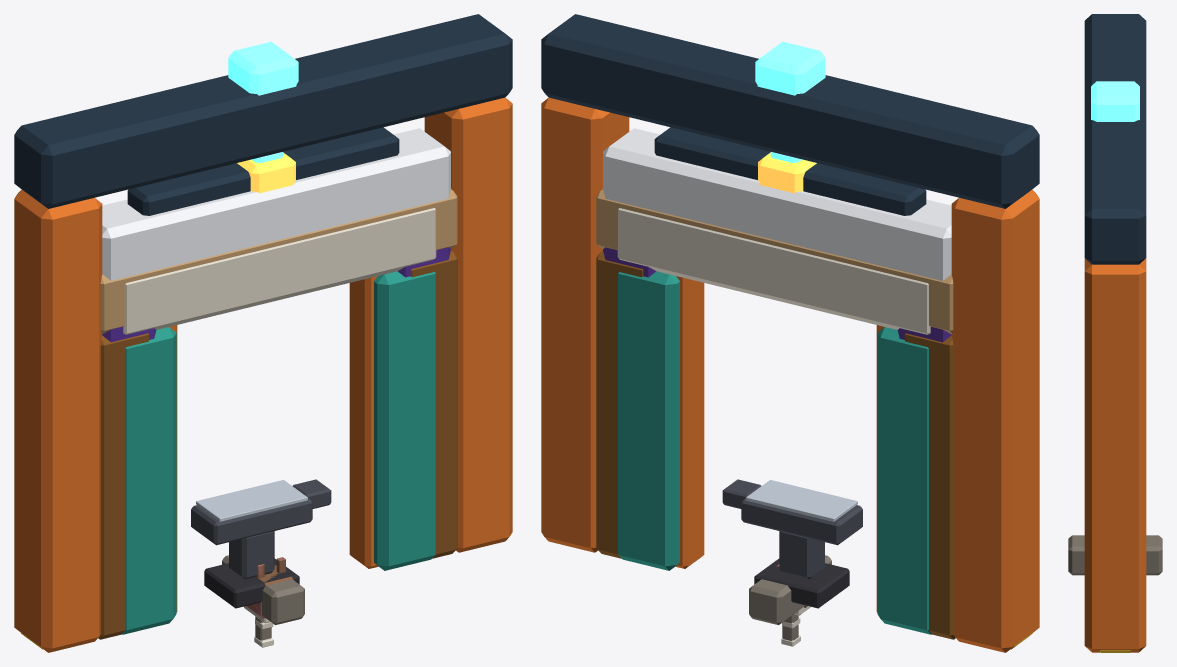
The model's file is flagship_props_002.glb.
The picture shows the model from 3 angles, left to right: view 1: azimuth 30°, elevation 25°; view 2: azimuth 150°, elevation 25°; view 3: azimuth 270°, elevation 25°; orthographic projection. The views are drawn at different scales.
Parts seen in each view (by area): view 1: Prop_BBIsle_Arch_00, Prop_BBIsle_Arch_02, Prop_BBIsle_Arch_04, Prop_BBIsle_Arch_03, Prop_BBIsle_Arch_05, Prop_Anvil, Mob_Forest_Grazer_K3_Body; view 2: Prop_BBIsle_Arch_00, Prop_BBIsle_Arch_02, Prop_BBIsle_Arch_04, Prop_BBIsle_Arch_03, Prop_BBIsle_Arch_05, Prop_Anvil, Mob_Forest_Grazer_K3_Body; view 3: Prop_BBIsle_Arch_00, Mob_Forest_Grazer_K3_Body.
Boxes of the visible parts, <box> form: Prop_BBIsle_Arch_00: <box>14,14,512,652</box>; Prop_BBIsle_Arch_02: <box>122,208,436,634</box>; Prop_BBIsle_Arch_04: <box>102,128,450,342</box>; Prop_BBIsle_Arch_03: <box>98,188,457,639</box>; Prop_BBIsle_Arch_05: <box>127,127,399,611</box>; Prop_Anvil: <box>191,479,331,608</box>; Mob_Forest_Grazer_K3_Body: <box>222,555,304,625</box>; Prop_BBIsle_Arch_00: <box>541,14,1039,652</box>; Prop_BBIsle_Arch_02: <box>617,208,931,634</box>; Prop_BBIsle_Arch_04: <box>603,128,951,342</box>; Prop_BBIsle_Arch_03: <box>596,188,955,639</box>; Prop_BBIsle_Arch_05: <box>654,127,926,611</box>; Prop_Anvil: <box>722,479,862,608</box>; Mob_Forest_Grazer_K3_Body: <box>749,555,831,625</box>; Prop_BBIsle_Arch_00: <box>1084,14,1146,652</box>; Mob_Forest_Grazer_K3_Body: <box>1068,535,1162,575</box>.
Bounding box in the file's own units: 4.28 × 5.11 × 0.8458.
